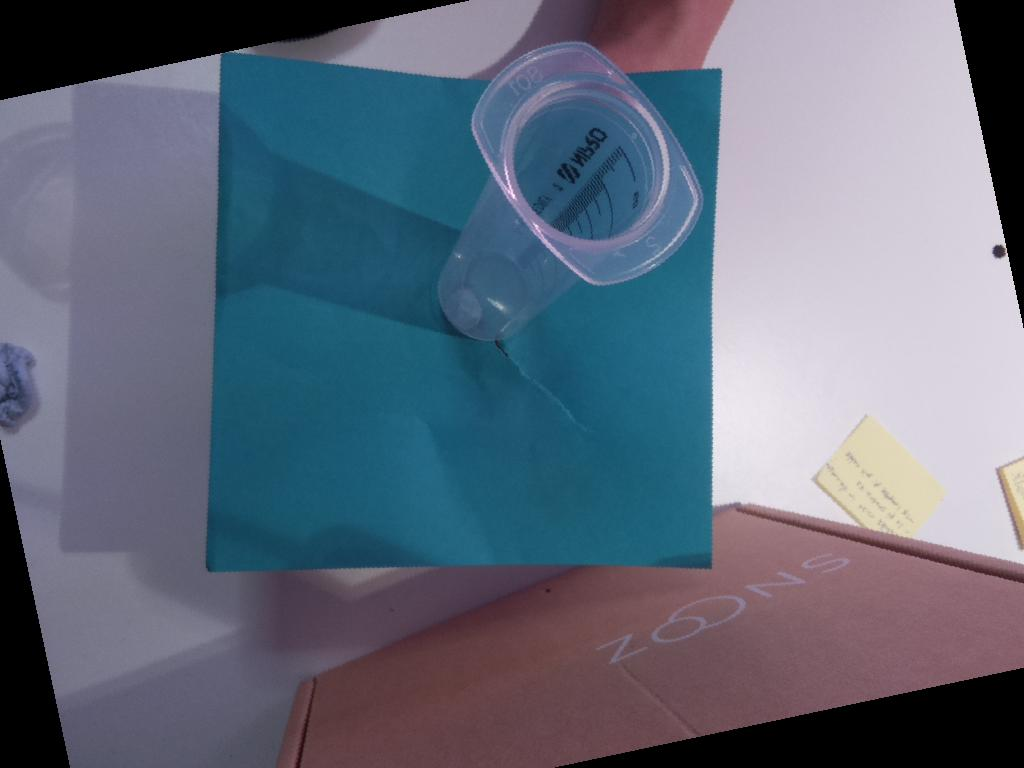clean: (468, 36, 706, 286)
